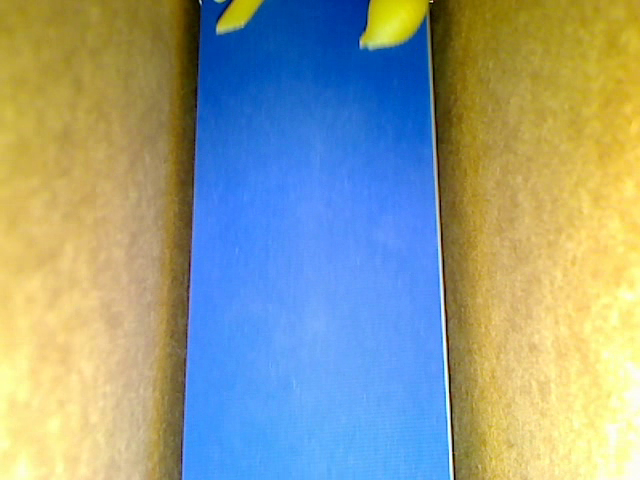penne: (216, 1, 264, 36)
shell: (359, 1, 429, 51)
